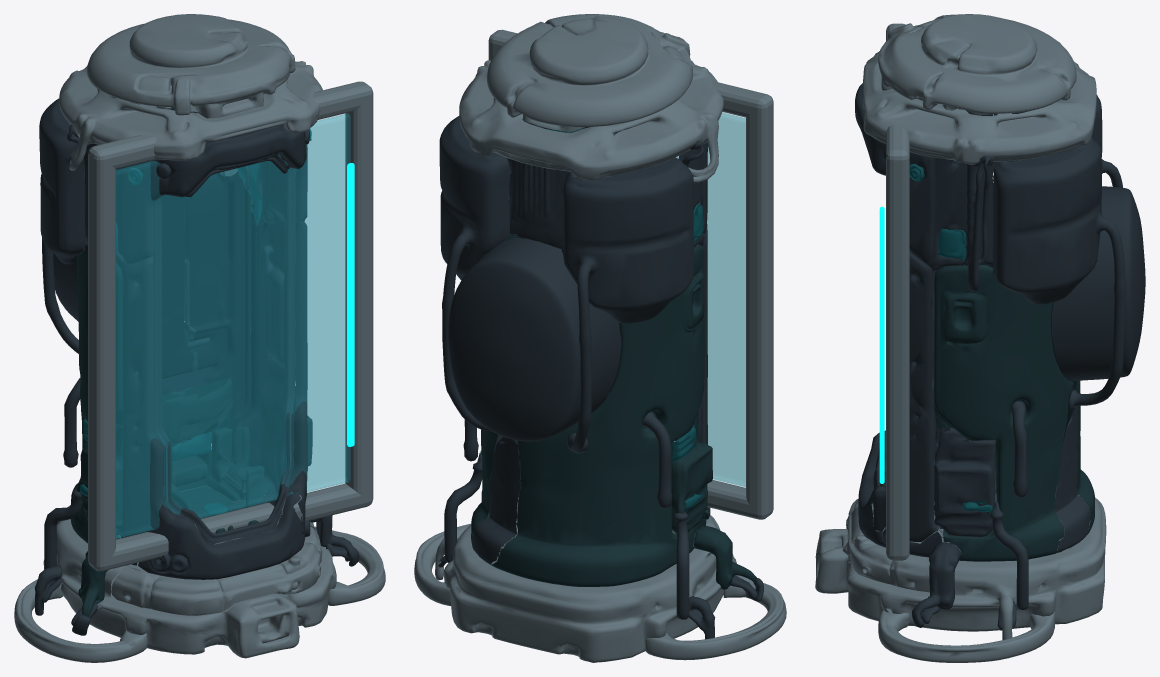
File: sector11-wake-capsule-v2.glb
3 renders of one model, left to right at view 1: azimuth 30°, elevation 25°; view 2: azimuth 150°, elevation 25°; view 3: azimuth 270°, elevation 25°, orthographic. The views are drawn at different scales.
Parts seen in each view (by area): view 1: Sector11_Capsule_Shell, Door_Glass, Door_Frame_Bottom, Door_Signal; view 2: Sector11_Capsule_Shell, Door_Frame_Bottom, Door_Glass; view 3: Sector11_Capsule_Shell, Door_Frame_Bottom, Door_Signal.
Boxes of the visible parts, x1,y1,x2,y2 form: Sector11_Capsule_Shell: (14,14,385,662); Door_Glass: (116,113,350,538); Door_Frame_Bottom: (88,81,373,571); Door_Signal: (347,163,354,446); Sector11_Capsule_Shell: (414,14,786,662); Door_Frame_Bottom: (488,29,773,519); Door_Glass: (674,112,745,487); Sector11_Capsule_Shell: (815,14,1145,662); Door_Frame_Bottom: (886,23,909,560); Door_Signal: (879,206,884,483).
Size of the model in its own units: 1.78 by 2.8 by 1.52.
